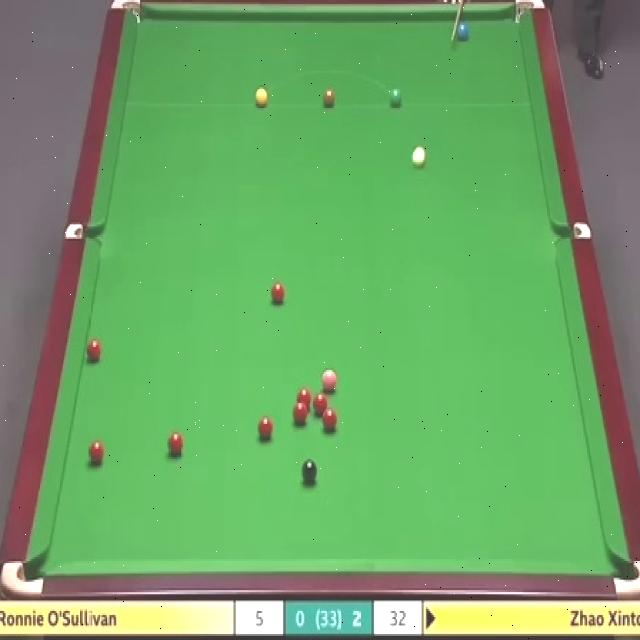black-ball: (300, 458, 318, 484)
blue-ball: (457, 22, 472, 40)
brown-ball: (323, 87, 336, 108)
green-ball: (388, 88, 404, 110)
pink-ball: (321, 367, 337, 393)
red-ball: (257, 414, 275, 442), (295, 386, 312, 411), (168, 431, 184, 457), (88, 439, 106, 462), (86, 337, 102, 362), (322, 406, 338, 430), (315, 389, 331, 412), (270, 282, 285, 306), (293, 402, 307, 423)
white-ball: (412, 146, 426, 167)
yellow-ball: (253, 86, 269, 108)
